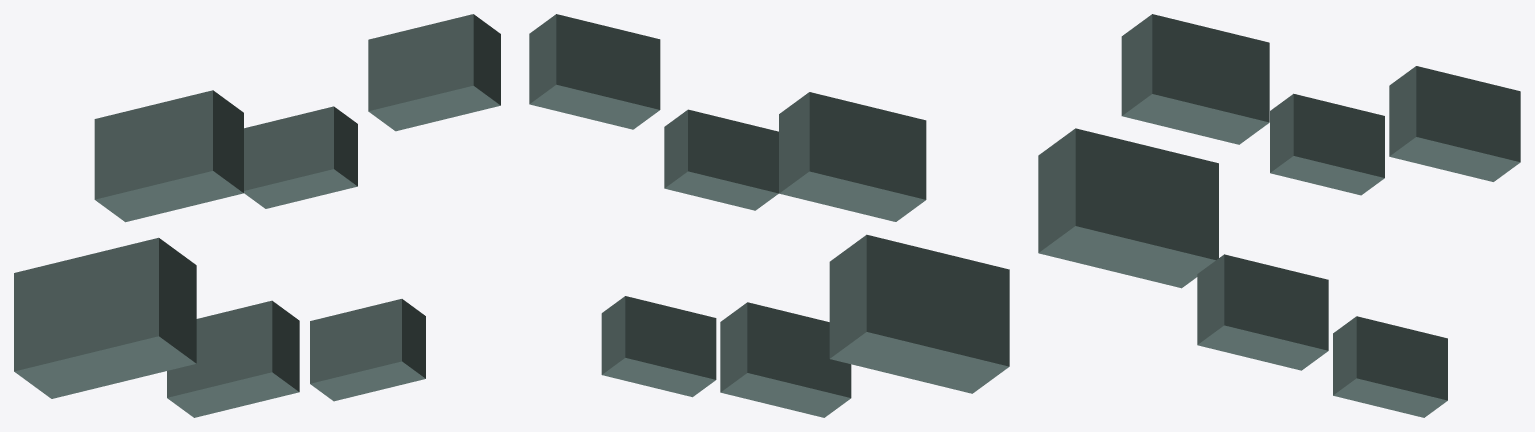
The model's file is SM_OuterReef_Alpha.gltf.
3 views of the same model, side by side, from view 1: azimuth 30°, elevation 25°; view 2: azimuth 150°, elevation 25°; view 3: azimuth 330°, elevation 25° (orthographic).
Parts seen in each view (by area): view 1: SM_OuterReef_Alpha; view 2: SM_OuterReef_Alpha; view 3: SM_OuterReef_Alpha.
Part boxes in pixels (bbox=[...]): SM_OuterReef_Alpha: bbox=[14, 14, 500, 417]; SM_OuterReef_Alpha: bbox=[529, 14, 1009, 417]; SM_OuterReef_Alpha: bbox=[1038, 14, 1520, 417].
Size of the model in its own units: 6.9 by 4.78 by 0.99.
